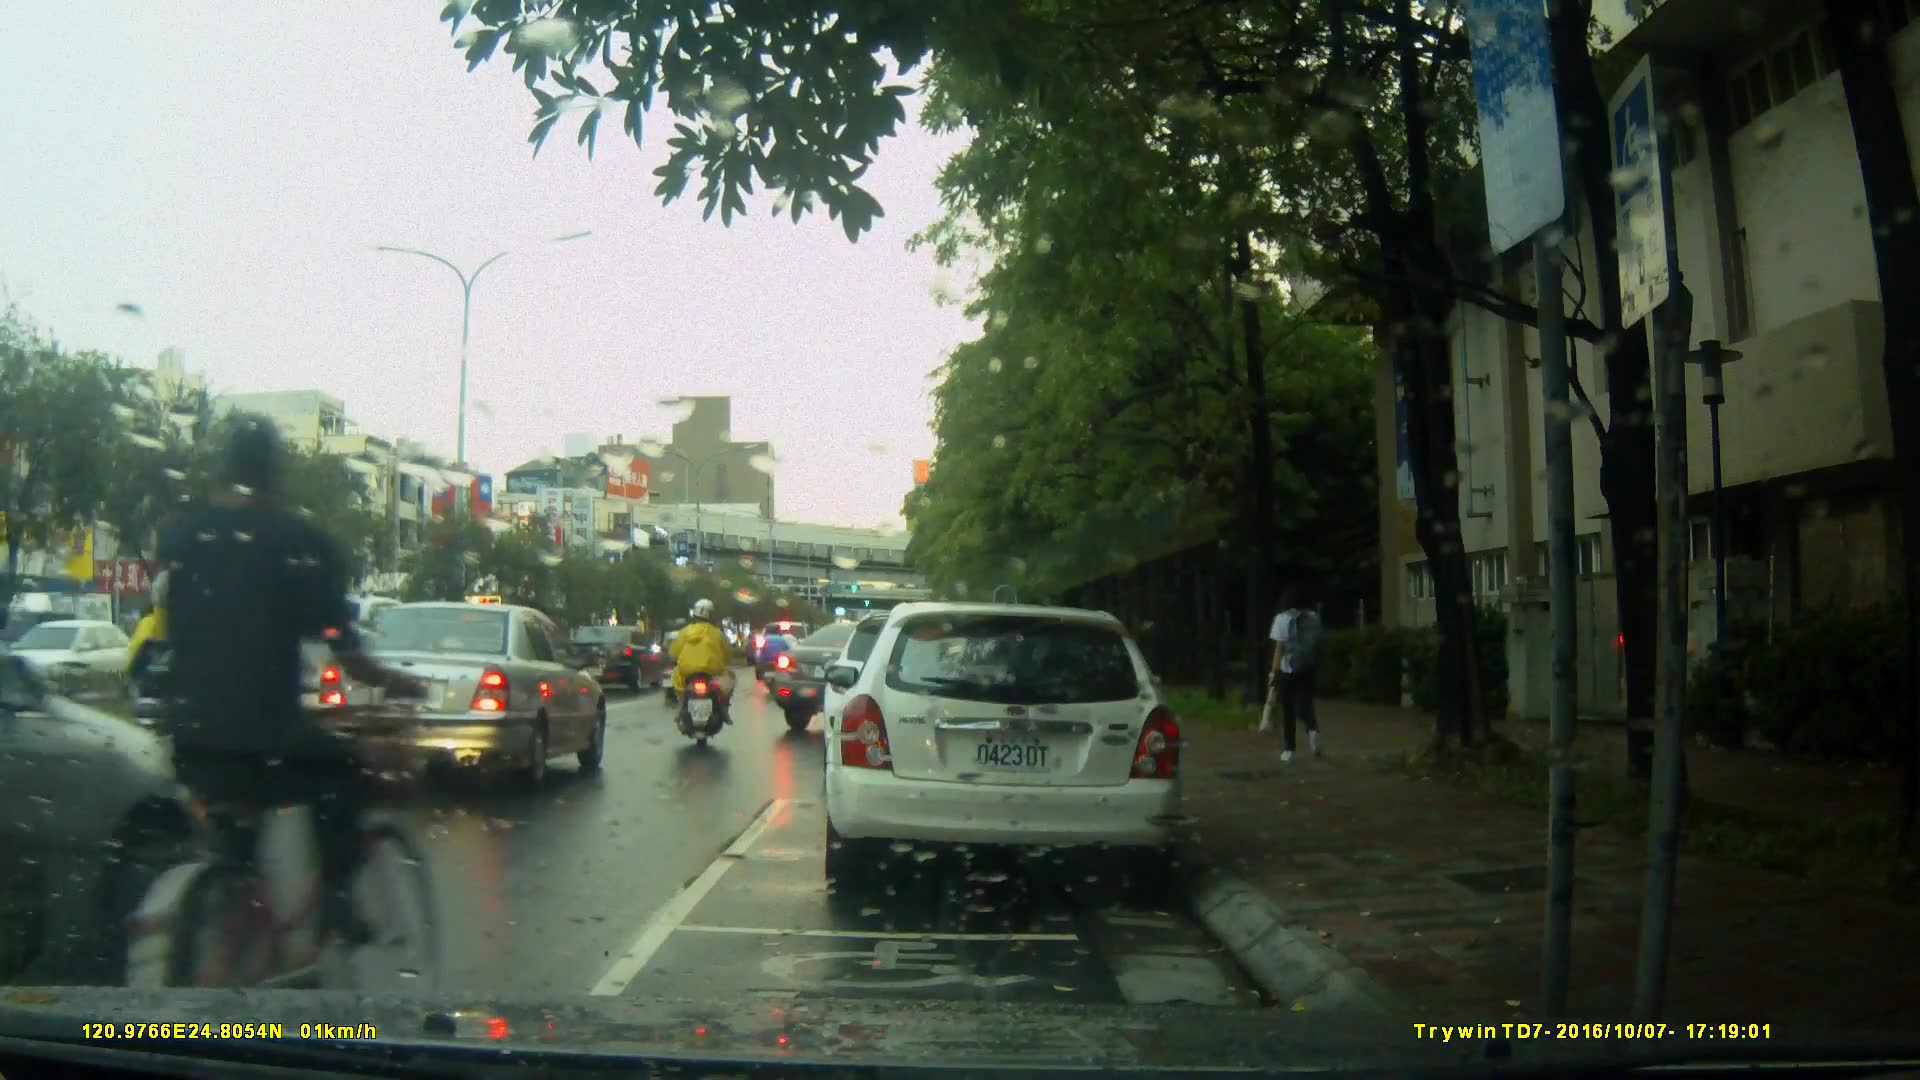pedestrian: (1268, 572, 1335, 769)
rider: (105, 404, 437, 1053), (125, 574, 249, 835), (670, 593, 735, 757), (649, 611, 689, 706), (764, 620, 790, 703)
vehicle: (1, 558, 285, 988), (820, 602, 1188, 898), (318, 600, 615, 789), (246, 592, 461, 736), (763, 621, 988, 733), (563, 624, 668, 694)
